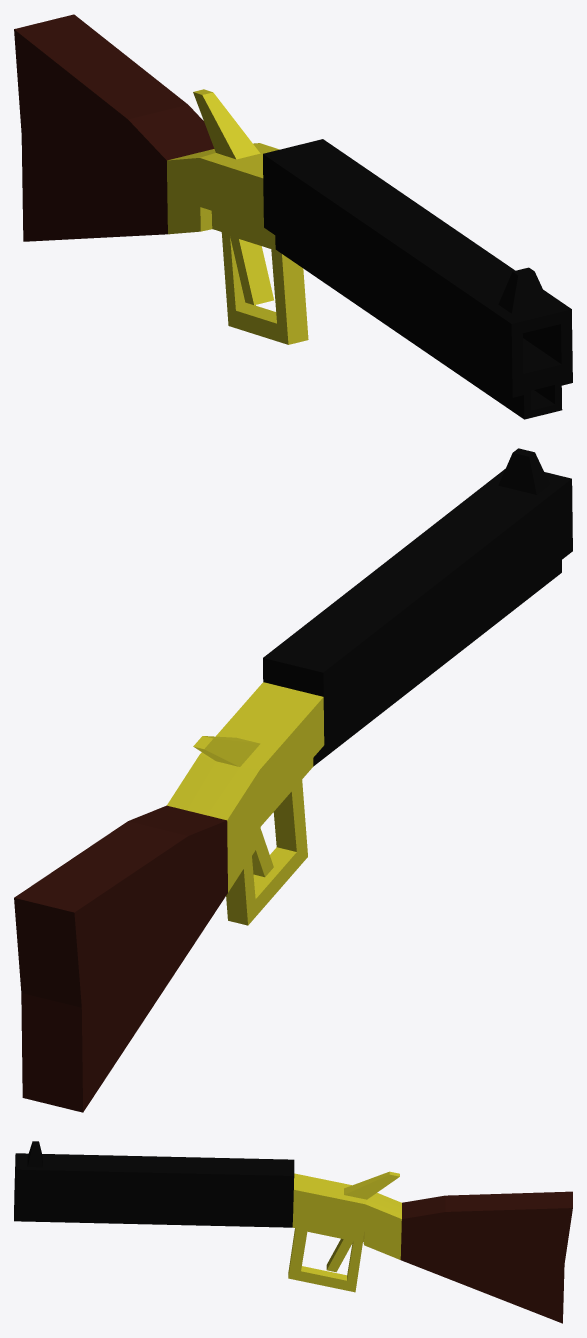
The model's file is rifle.obj.
3 views of the same model, one above another, from view 1: azimuth 30°, elevation 25°; view 2: azimuth 150°, elevation 25°; view 3: azimuth 270°, elevation 25° (orthographic). The views are drawn at different scales.
Parts seen in each view (by area): view 1: big_gun; view 2: big_gun; view 3: big_gun.
Part boxes in pixels (box(x1,y1,x2,y2)): big_gun: box(14, 14, 572, 419); big_gun: box(14, 448, 572, 1112); big_gun: box(14, 1141, 572, 1323).
Size of the model in its own units: 0.0806 by 0.3868 by 1.14.
